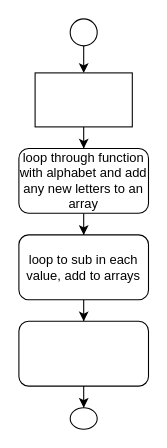
This 167x448 diagram has some shape labels left out. The centre of each missing label's shape, as x and y in pixels:
"input function, range, step size" belongs at pixel 83 99.
"print answer" belongs at pixel 83 353.
